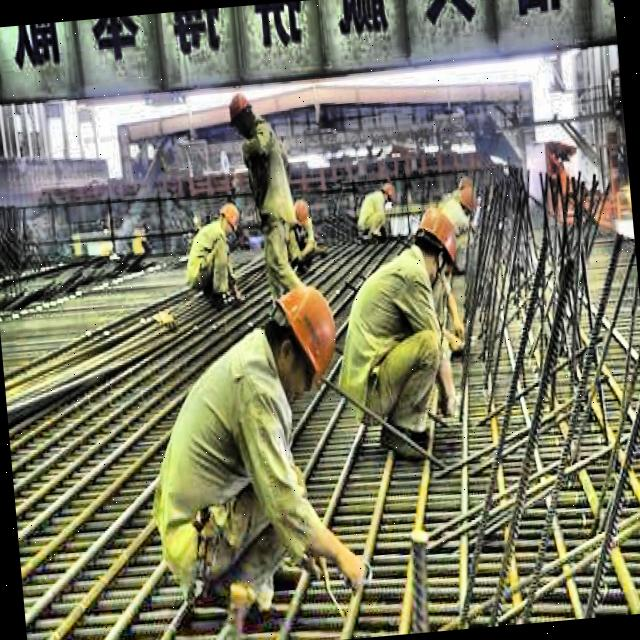helmet: (258, 276, 348, 402), (409, 200, 462, 288), (222, 86, 258, 138), (212, 197, 244, 238), (456, 182, 482, 217), (288, 194, 310, 232), (376, 178, 400, 202)
